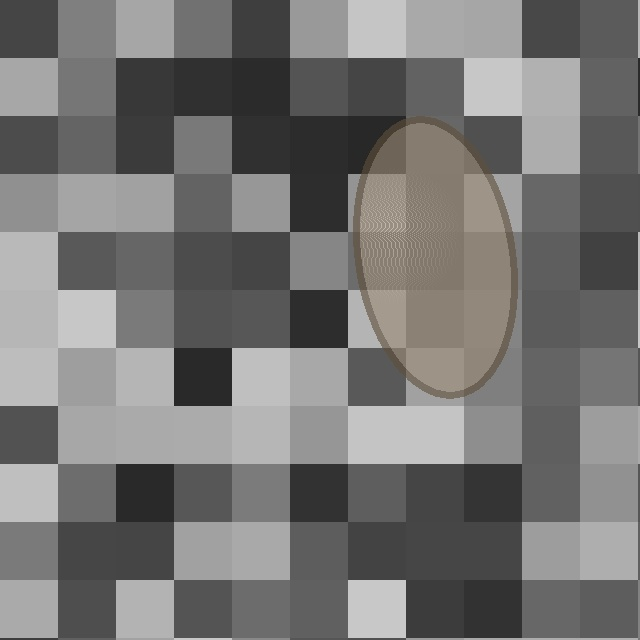lens: (356, 120, 514, 394)
